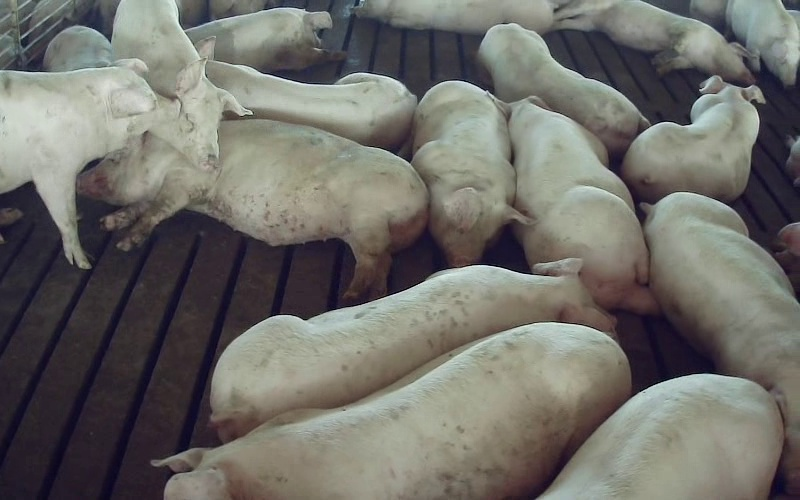pig: (155, 323, 627, 499), (211, 259, 614, 441), (78, 120, 427, 301), (642, 192, 799, 494), (0, 59, 177, 268), (538, 374, 782, 499), (112, 0, 248, 168), (478, 23, 649, 154), (412, 81, 527, 266), (206, 61, 416, 148), (621, 76, 764, 202), (554, 0, 754, 84), (186, 8, 345, 72), (691, 0, 799, 87), (356, 0, 553, 33)
